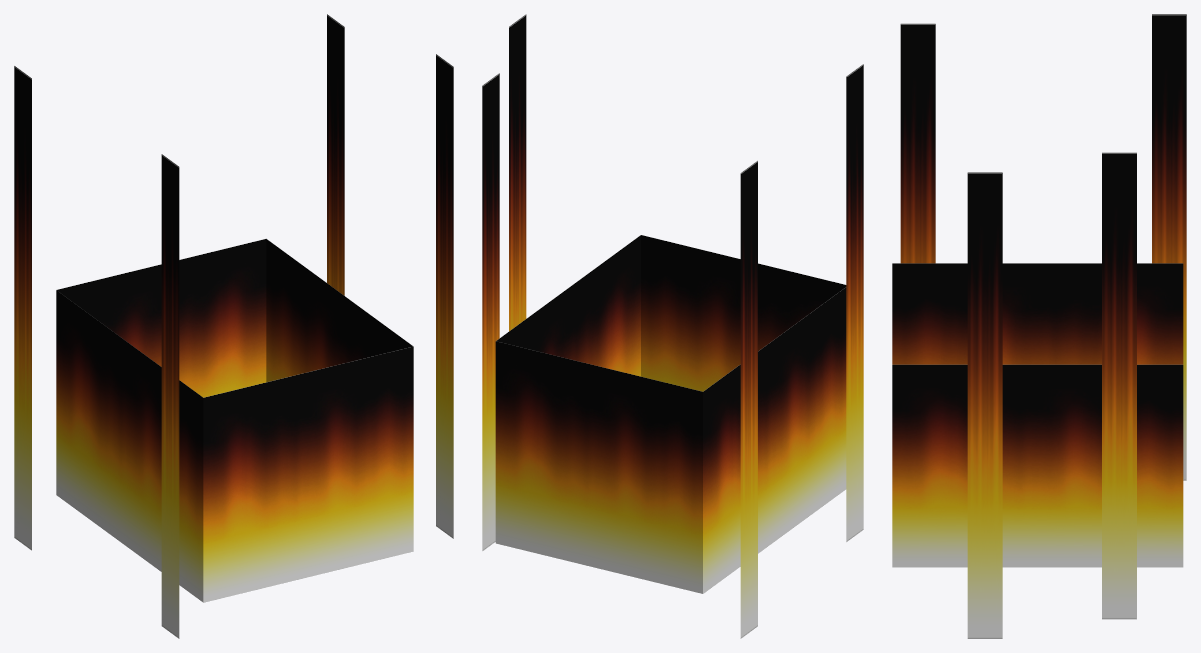
Rendered from world_fx.fbx.
3 renders of one model, left to right at view 1: azimuth 30°, elevation 25°; view 2: azimuth 150°, elevation 25°; view 3: azimuth 270°, elevation 25°, orthographic.
Visible parts, largest first — view 1: Box001, Plane001, Plane004, Plane002, Plane003; view 2: Box001, Plane002, Plane001, Plane003, Plane004; view 3: Box001, Plane004, Plane003, Plane002, Plane001.
Part boxes in pixels (x1,y1,x2,y2): Box001: [56, 238, 413, 602]; Plane001: [161, 154, 179, 638]; Plane004: [436, 54, 453, 538]; Plane002: [14, 66, 31, 550]; Plane003: [327, 14, 344, 295]; Box001: [495, 235, 846, 593]; Plane002: [740, 160, 757, 638]; Plane001: [846, 64, 863, 541]; Plane003: [482, 73, 499, 550]; Plane004: [509, 14, 526, 331]; Box001: [892, 263, 1183, 567]; Plane004: [967, 172, 1002, 638]; Plane003: [1102, 152, 1136, 619]; Plane002: [1152, 14, 1186, 480]; Plane001: [900, 23, 935, 263].
Bounding box in the file's own units: 549 × 755 × 432.
